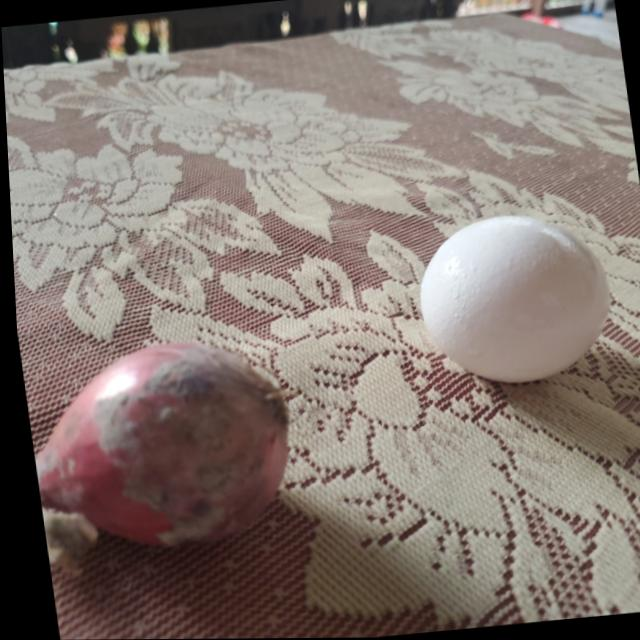egg: (405, 214, 612, 394)
onion: (19, 333, 298, 562)
